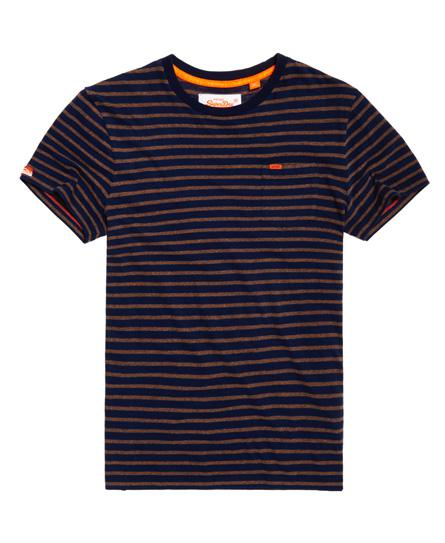teeshirt: (19, 51, 438, 511)
